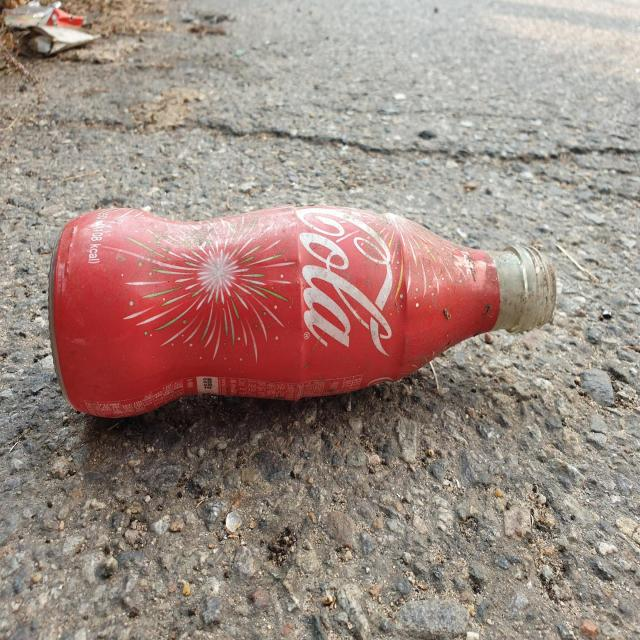glass: (49, 206, 556, 417)
